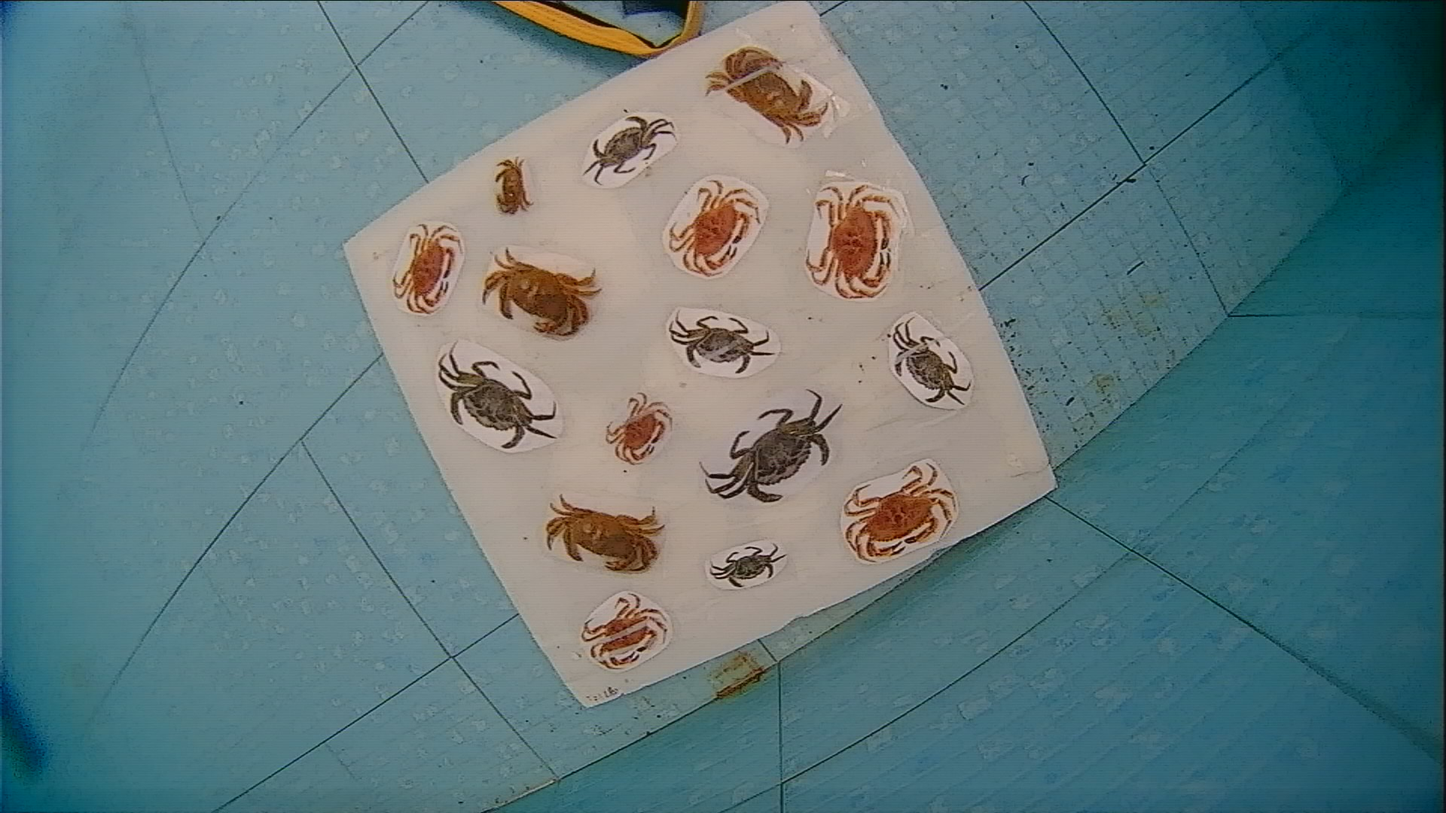GreenCrab: (700, 390, 840, 501), (439, 350, 555, 450), (893, 324, 969, 405), (669, 315, 773, 373), (584, 116, 673, 182), (710, 545, 786, 586)
